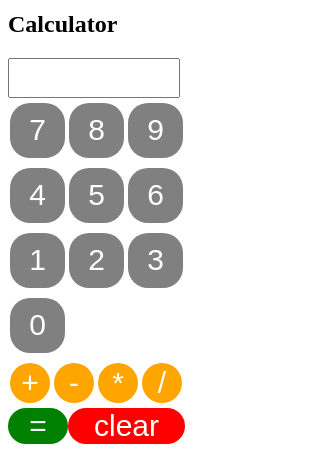
it: Testing Calculator › should user input after clicking a number
The image size is (320, 461).
Click the button "1". click: (38, 260)
box: x1=10 y1=233 x2=65 y2=288
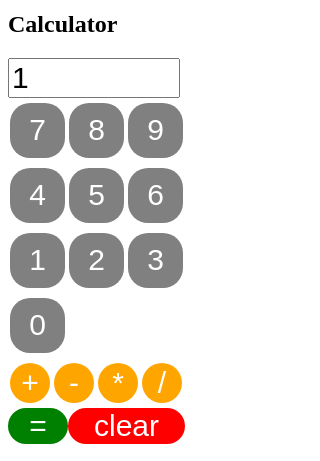
Now the field holds "1", box x1=8 y1=58 x2=180 y2=98
